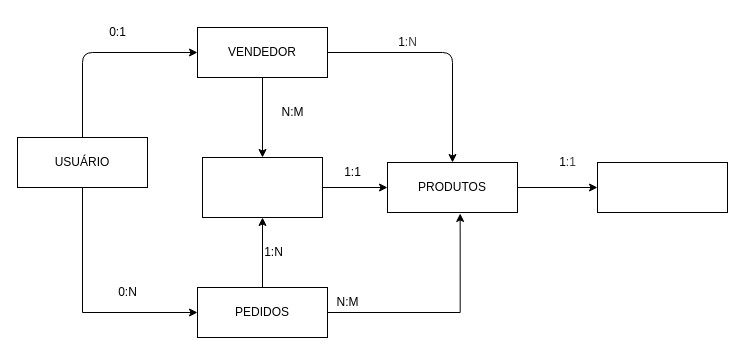
The diagram is 745 pixels wide and 355 high, and some of its shapes have lost their labels. Here are the shapes that lost their labels. From the top down, the centre of each, then its label:
At pixel 262 187: "AVALIACAO".
At pixel 662 187: "CATEGORIA".
